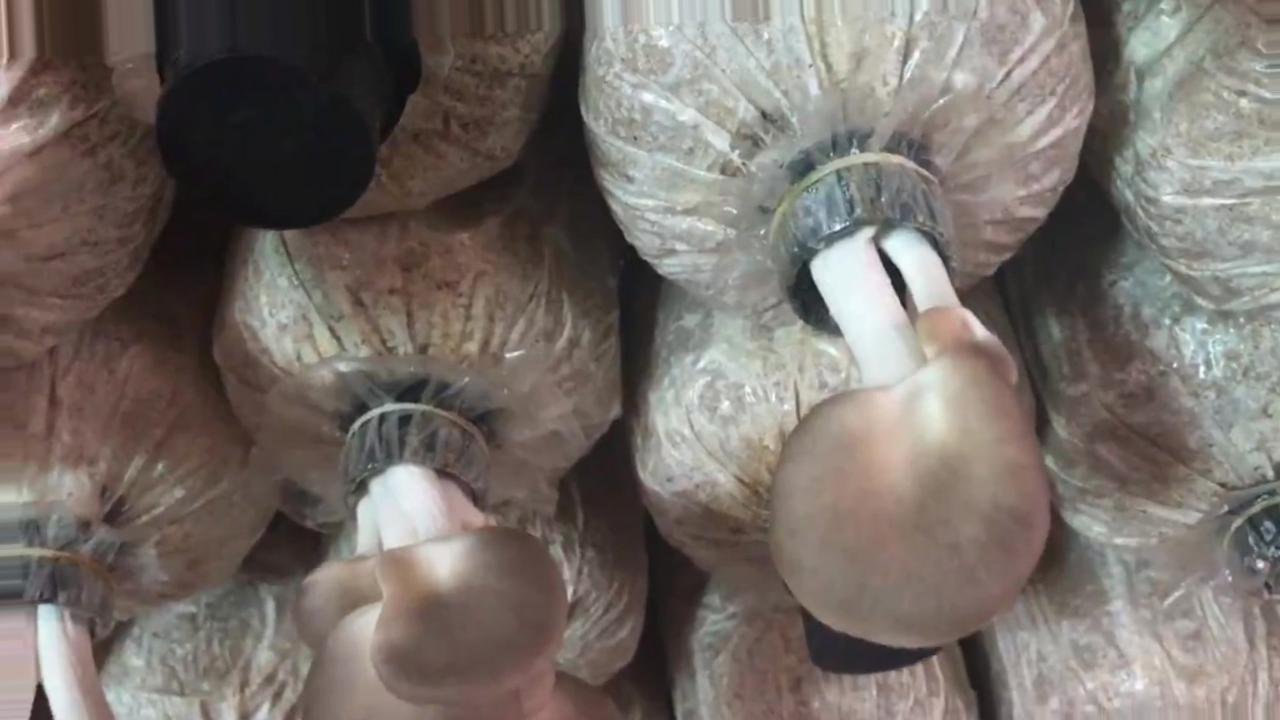nam: (769, 159, 1048, 650), (304, 407, 614, 720)
